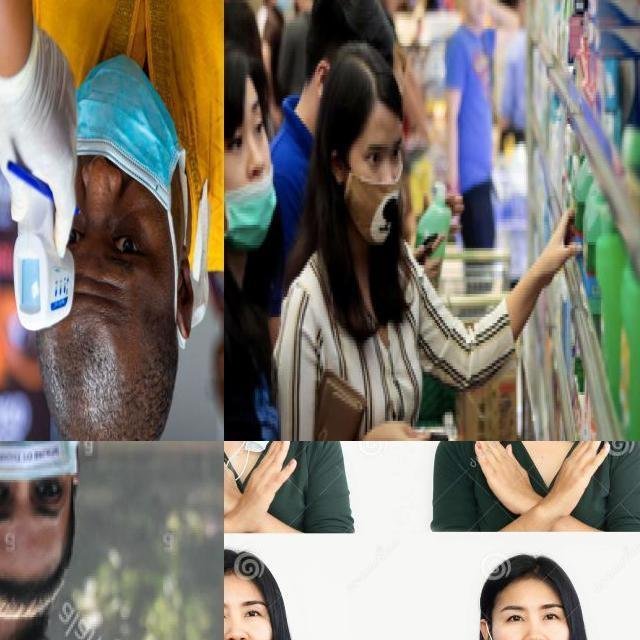hairnet: (51, 51, 188, 217), (224, 149, 276, 244)
